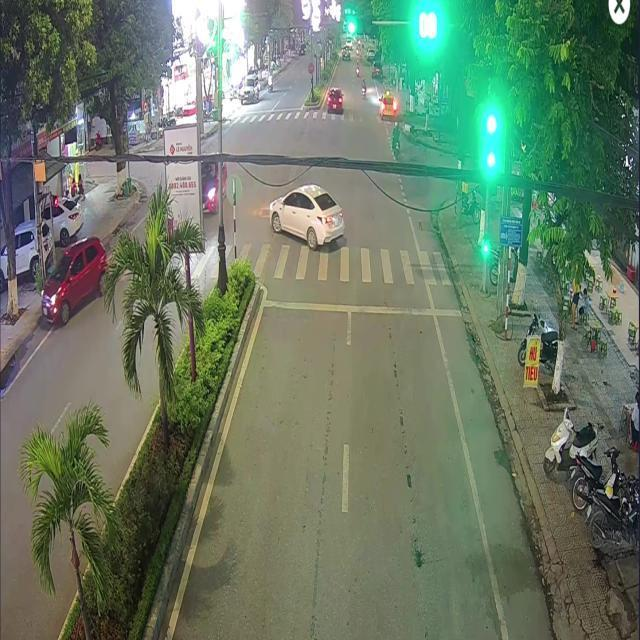car: (269, 183, 343, 247), (378, 90, 396, 117), (326, 87, 342, 113)
green_light: (346, 15, 373, 36), (486, 132, 495, 168), (483, 233, 487, 251)
stop_line: (263, 299, 460, 315)
